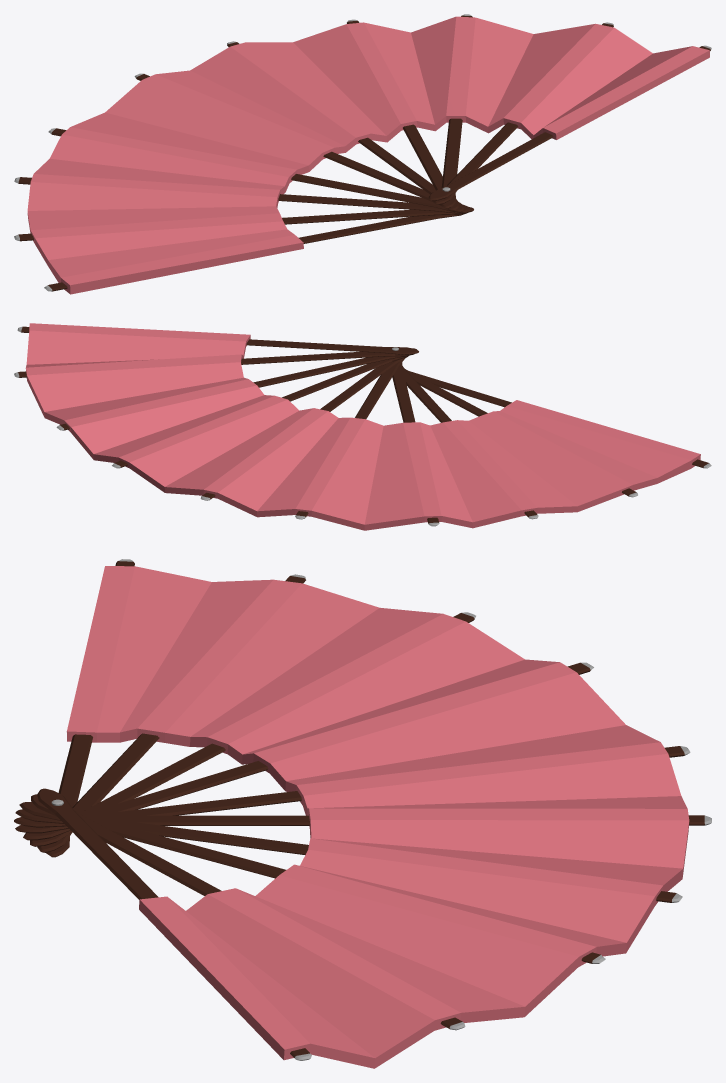
Rendered from foldingfan_basic.glb.
3 renders of one model, top to bottom at view 1: azimuth 30°, elevation 25°; view 2: azimuth 150°, elevation 25°; view 3: azimuth 270°, elevation 25°, orthographic. The views are drawn at different scales.
Parts seen in each view (by area): view 1: 2.021, 0.068; view 2: 2.021, 0.068, 1.043; view 3: 2.021, 0.068.
Boxes of the visible parts, bbox=[...] form: 2.021: bbox=[27, 16, 709, 294]; 0.068: bbox=[18, 15, 710, 291]; 2.021: bbox=[25, 323, 700, 530]; 0.068: bbox=[18, 326, 708, 523]; 1.043: bbox=[14, 326, 711, 526]; 2.021: bbox=[66, 566, 689, 1068]; 0.068: bbox=[14, 561, 704, 1057].
Bounding box in the file's own units: 0.6512 × 0.0284 × 0.3597.
